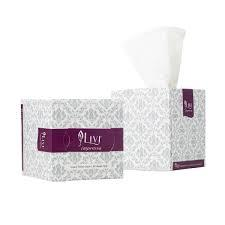cube: (21, 98, 126, 180)
